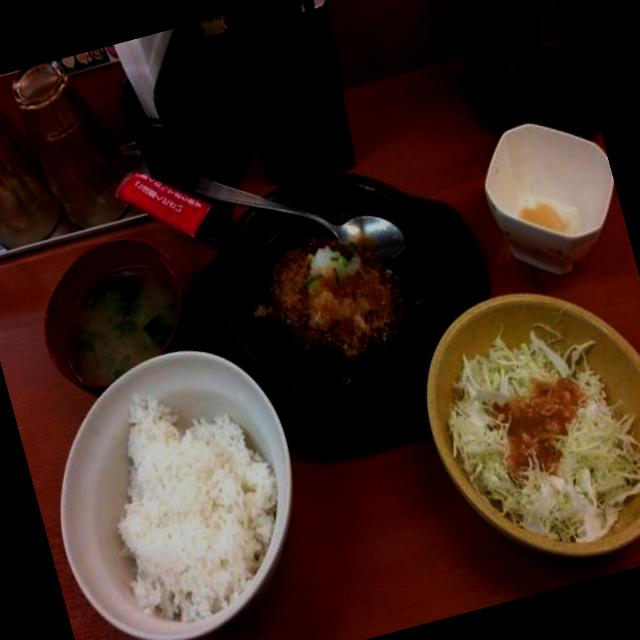Rice: (73, 376, 310, 630)
